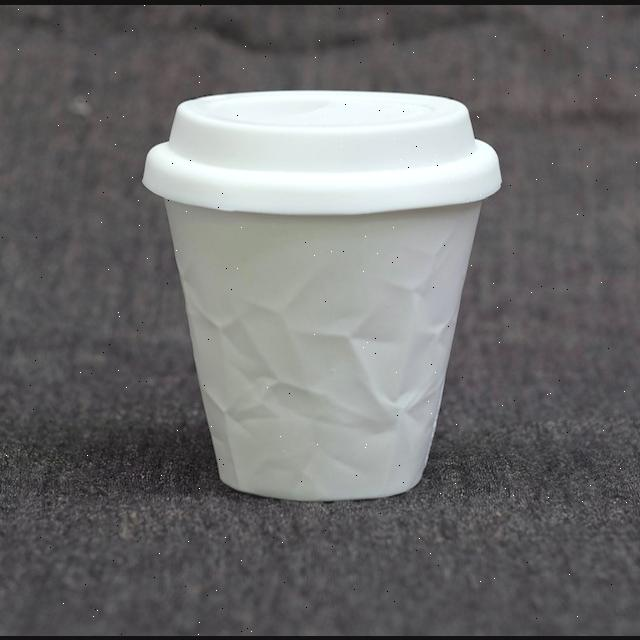trash: (143, 90, 505, 503)
